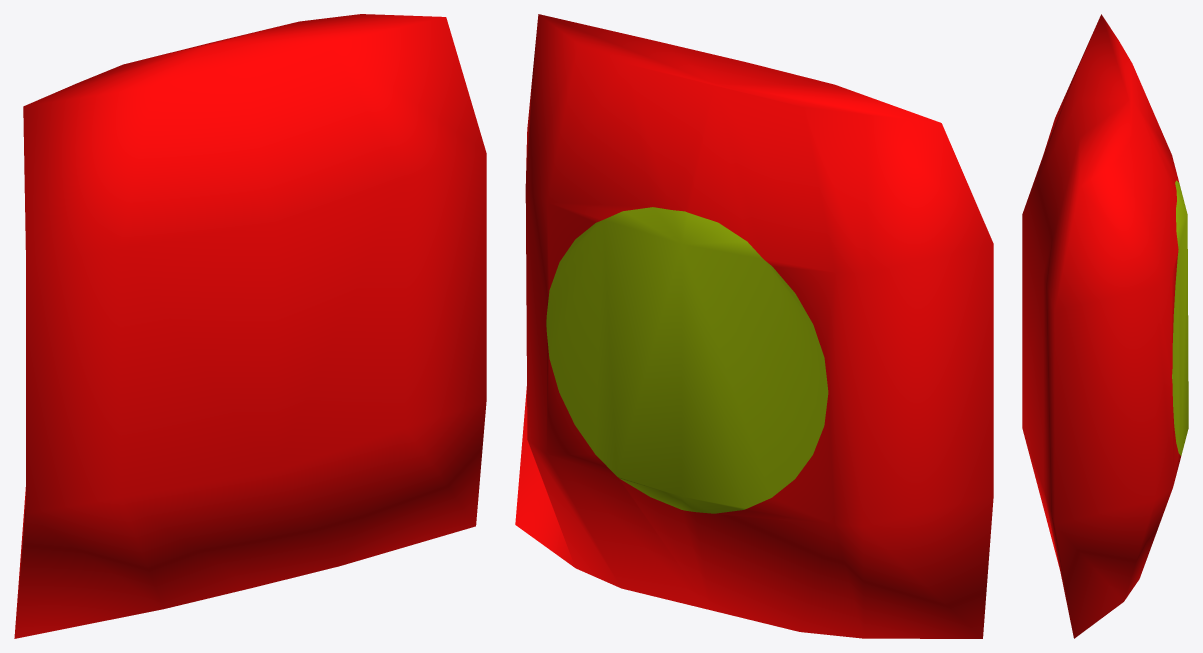
File: bagofchips.FBX
The picture shows the model from 3 angles, left to right: view 1: azimuth 30°, elevation 25°; view 2: azimuth 150°, elevation 25°; view 3: azimuth 270°, elevation 25°; orthographic projection. The views are drawn at different scales.
Parts seen in each view (by area): view 1: Sphere001; view 2: Sphere001, Circle001; view 3: Sphere001, Circle001.
Boxes of the visible parts, x1,y1,x2,y2 form: Sphere001: [14, 14, 486, 638]; Sphere001: [515, 14, 993, 638]; Circle001: [546, 207, 828, 513]; Sphere001: [1022, 14, 1180, 638]; Circle001: [1172, 180, 1188, 455].
Bounding box in the file's own units: 72.54 × 77.31 × 26.39.
